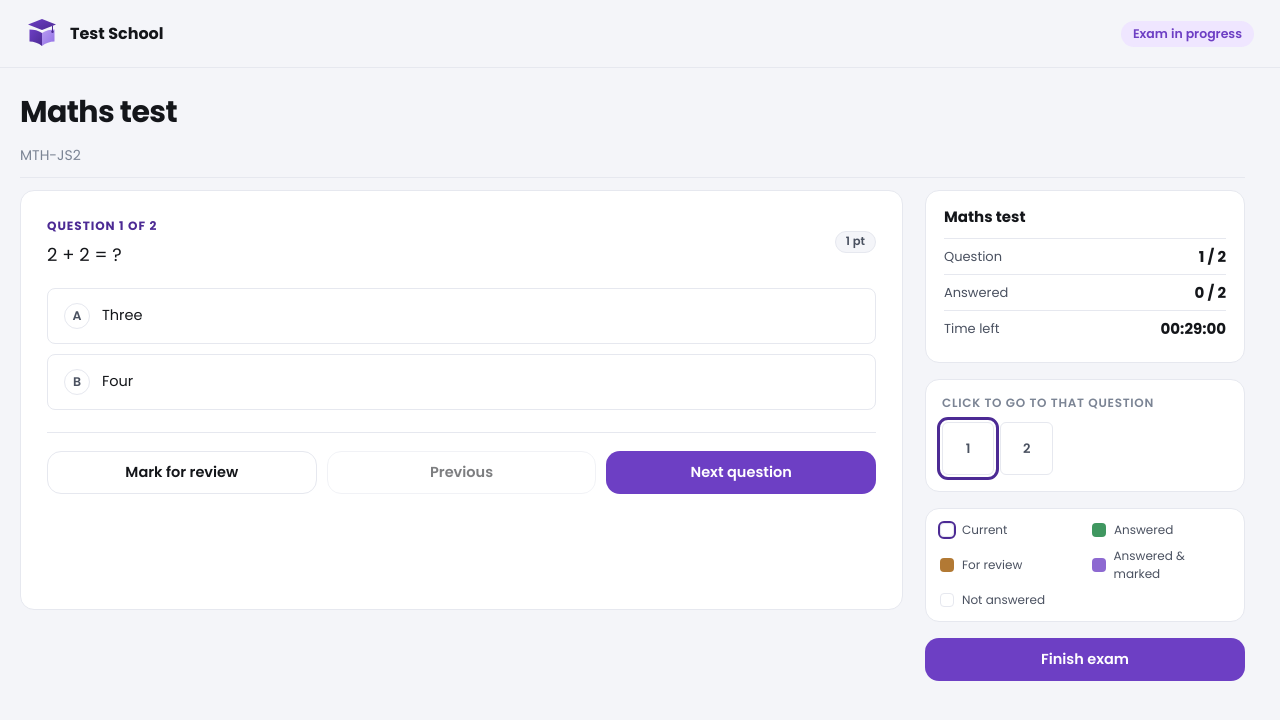
moving between questions, and a written answer is saved
Expected: the text "2 + 2 = ?" is shown, [47,242,122,267]
Click the button "Next question". click: (741, 472)
box: [606,451,876,494]
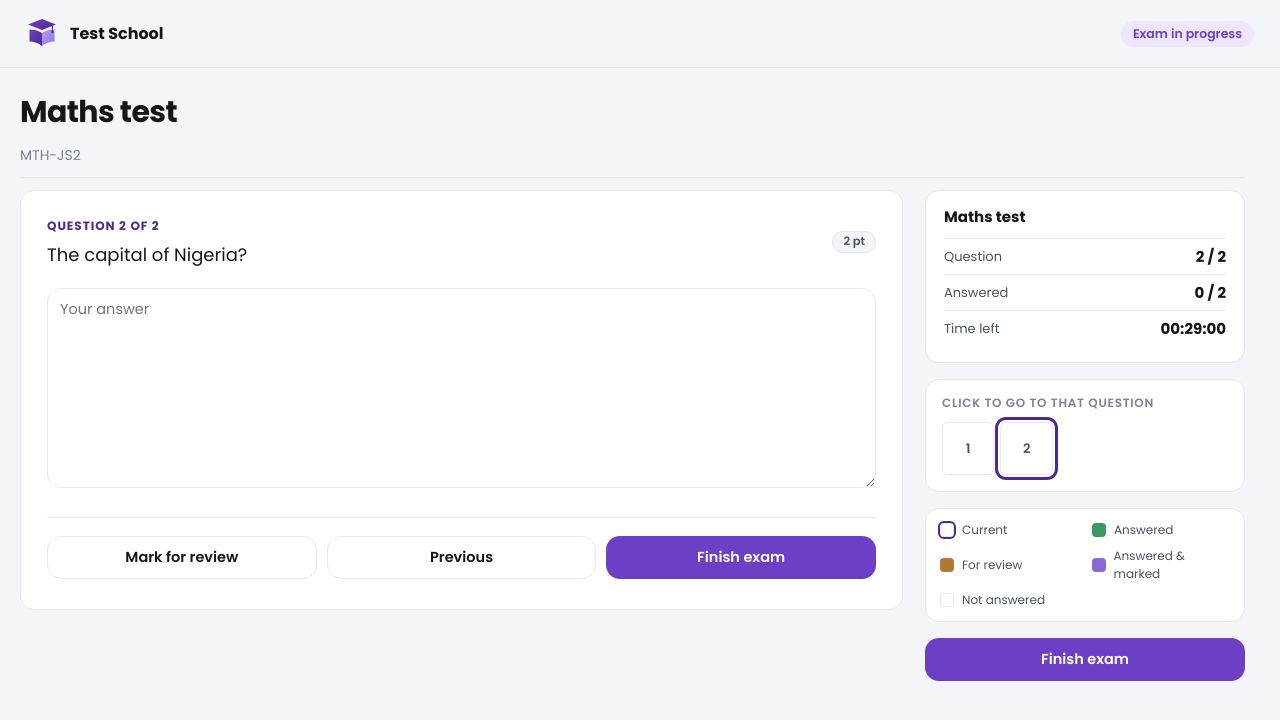
Now the text "The capital of Nigeria?" is shown, box [47,241,247,268]
Type "Abuja" into the text box with placeholder "Your answer". click: (462, 388)
box: [47,288,876,488]
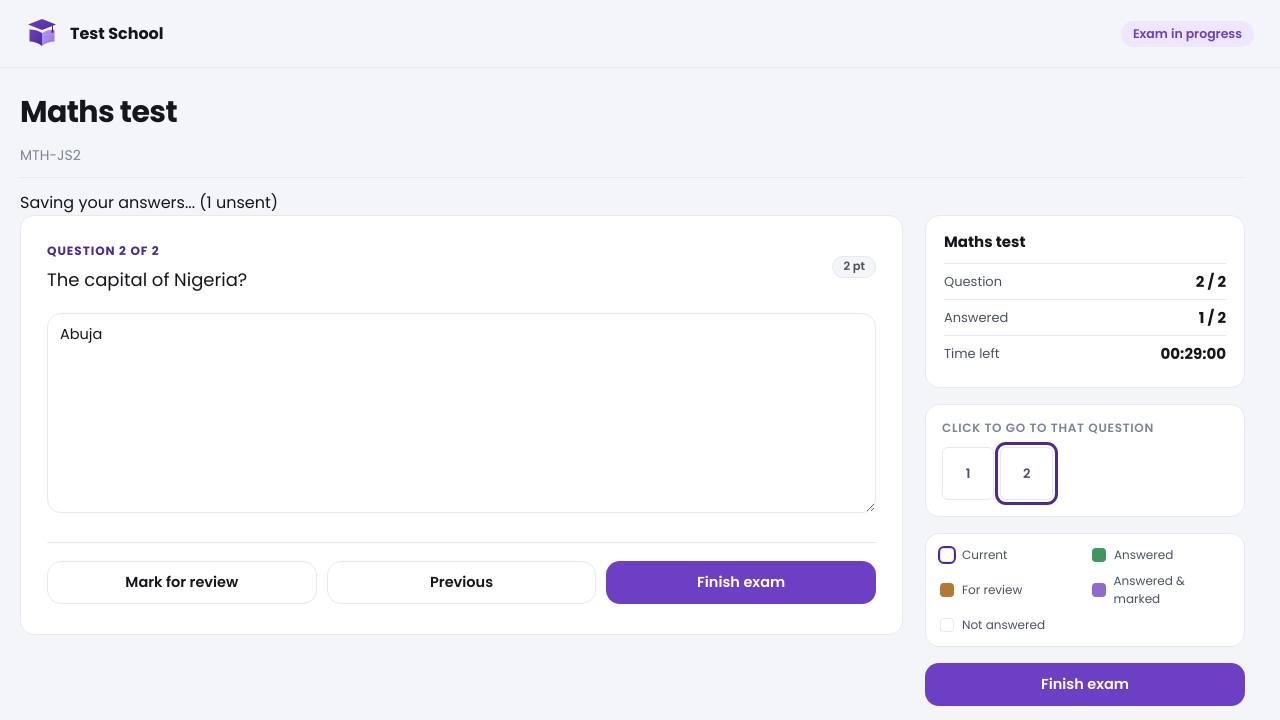
Click the button named "Go to question 1". click: (968, 474)
box: [942,447,994,500]
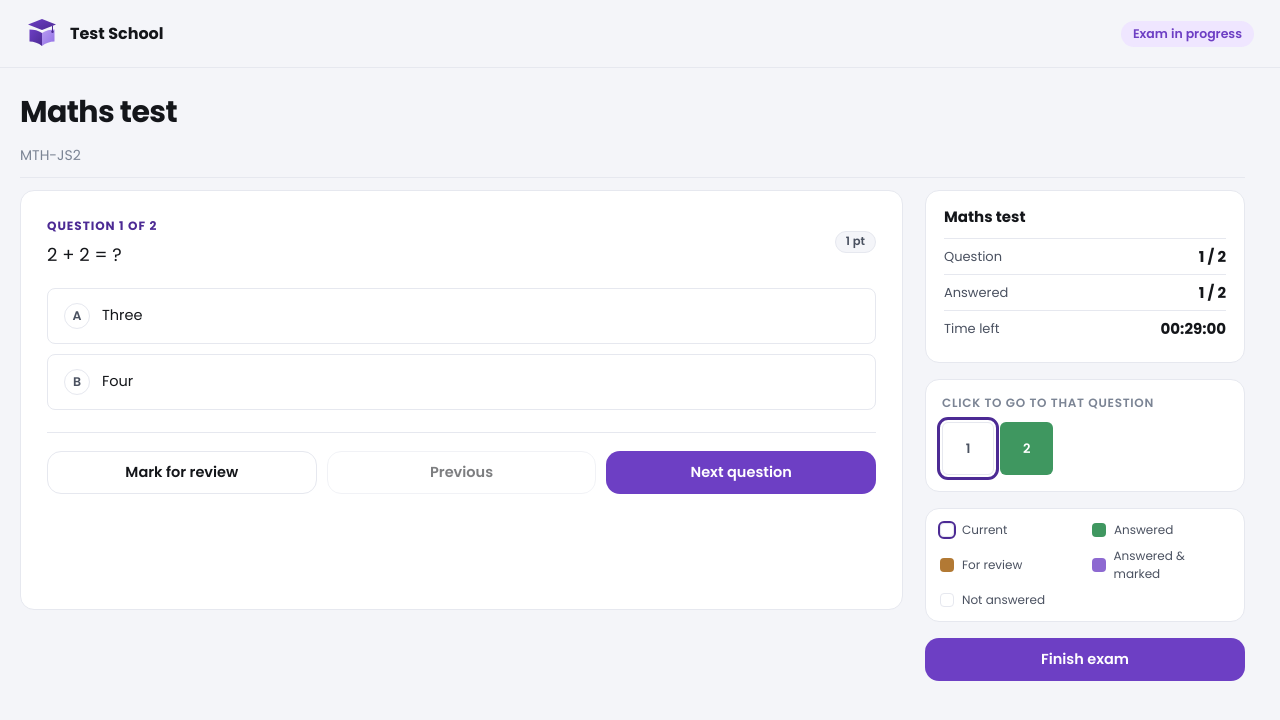
Now the text "2 + 2 = ?" is shown, box [47,242,122,267]
